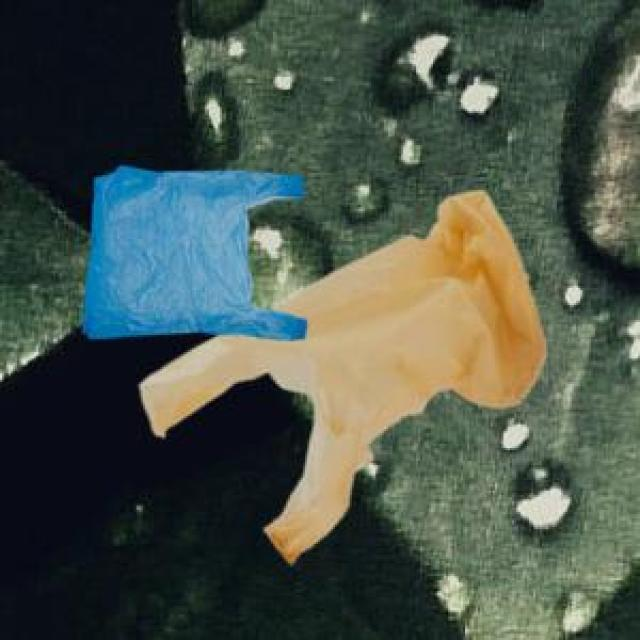waste: (87, 166, 545, 562), (140, 191, 545, 563), (92, 168, 302, 333)
